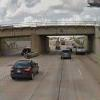Bridge: (5, 16, 97, 47)
